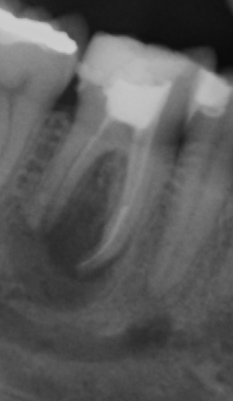fracture: (76, 204, 132, 272)
